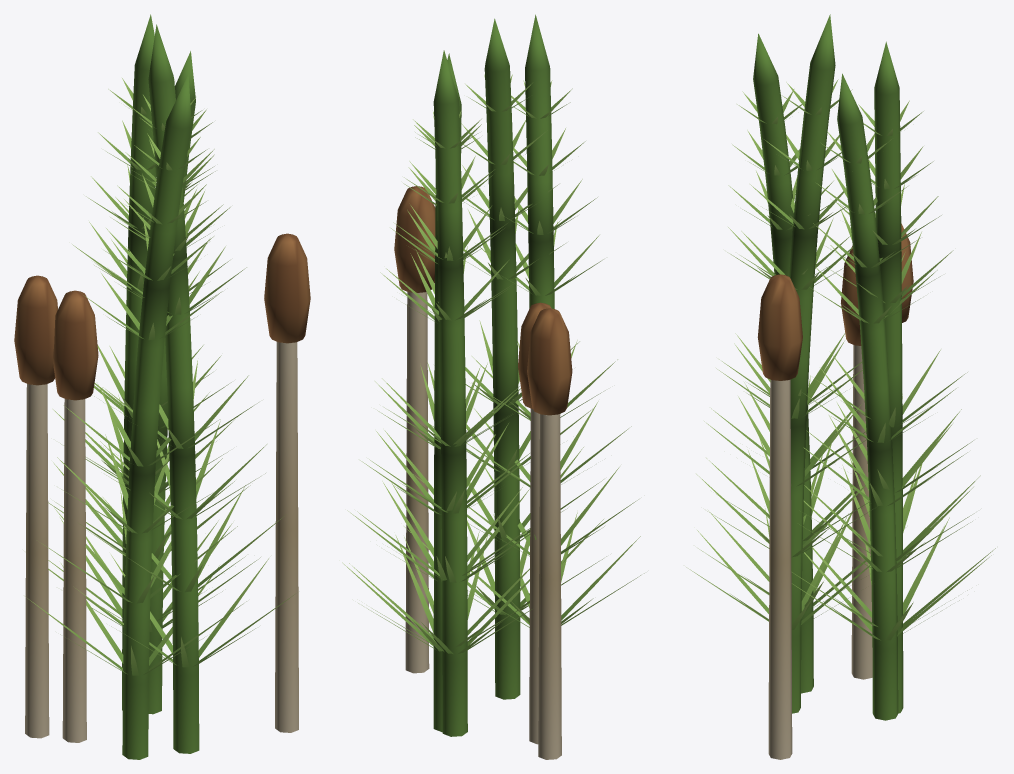
Rendered from Horsetail.fbx.
3 views of the same model, side by side, from view 1: azimuth 30°, elevation 25°; view 2: azimuth 150°, elevation 25°; view 3: azimuth 270°, elevation 25° (orthographic). The views are drawn at different scales.
Parts seen in each view (by area): view 1: Horsetail; view 2: Horsetail; view 3: Horsetail.
Boxes of the visible parts, bbox=[...] form: Horsetail: bbox=[14, 14, 310, 759]; Horsetail: bbox=[342, 14, 644, 759]; Horsetail: bbox=[686, 14, 995, 759].
Bounding box in the file's own units: 1.66 × 4.38 × 1.84.
